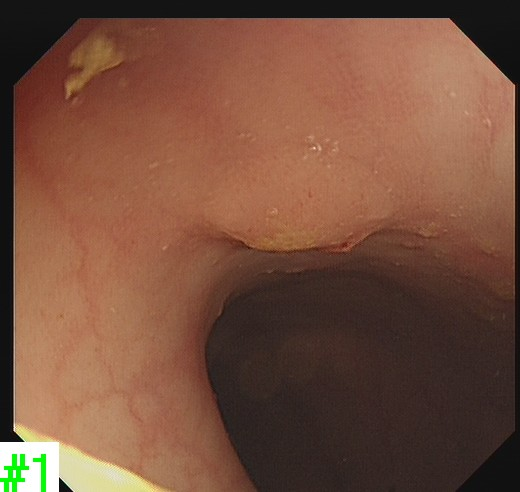others: (201, 198, 399, 254)
